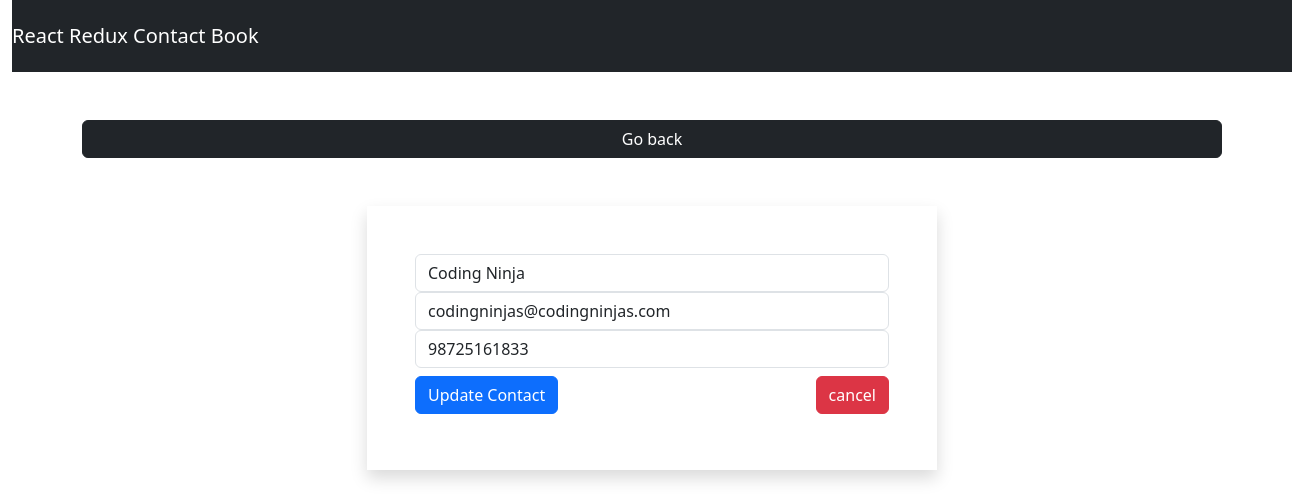
Test: Contact Book App › should edit an existing contact
Replace the text in the 1st field with placeholder "Name" with "Updated Ninja" at (652, 273), box [415,254,889,292]
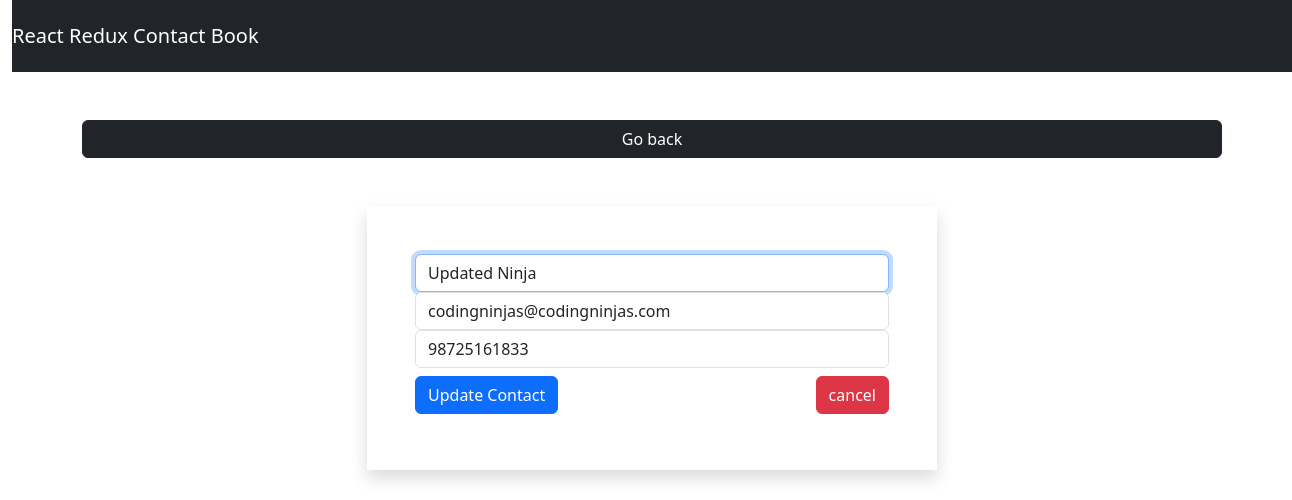
Replace the text in the 2nd field with placeholder "Email" with "updated@codingninjas.com" at (652, 311), box [415,292,889,330]
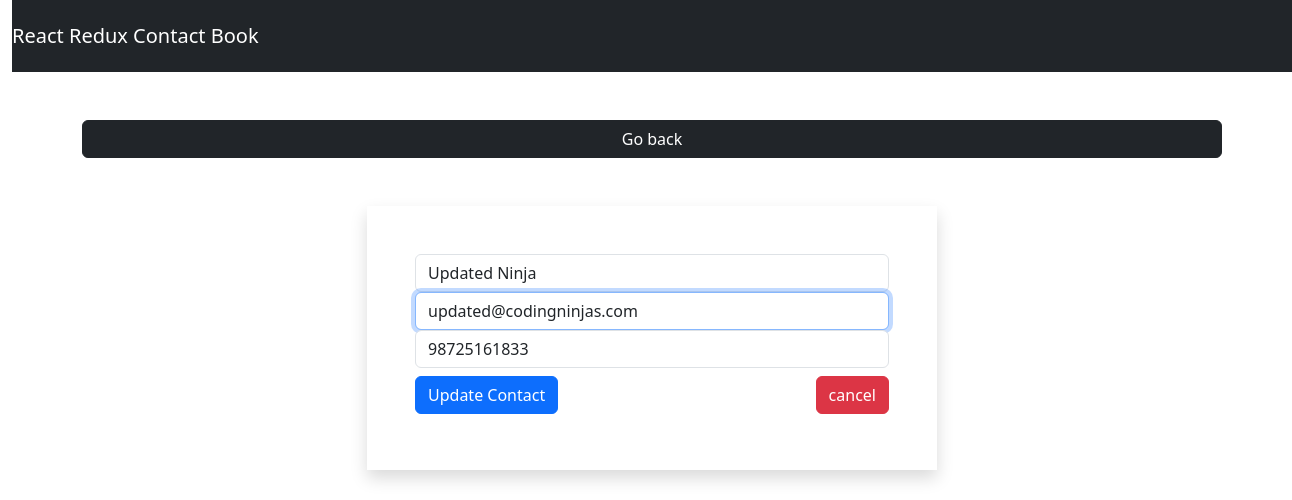
Replace the text in the 3rd field with placeholder "Phone" with "9876543210" at (652, 349), box [415,330,889,368]
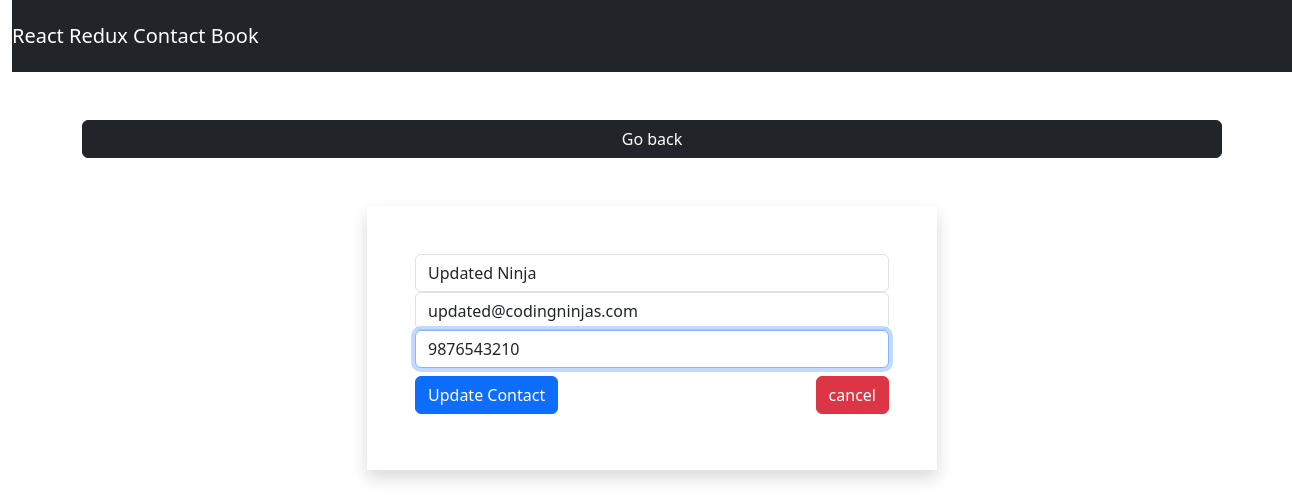
Click the button "Update Contact" at (487, 395), box [415,376,558,414]
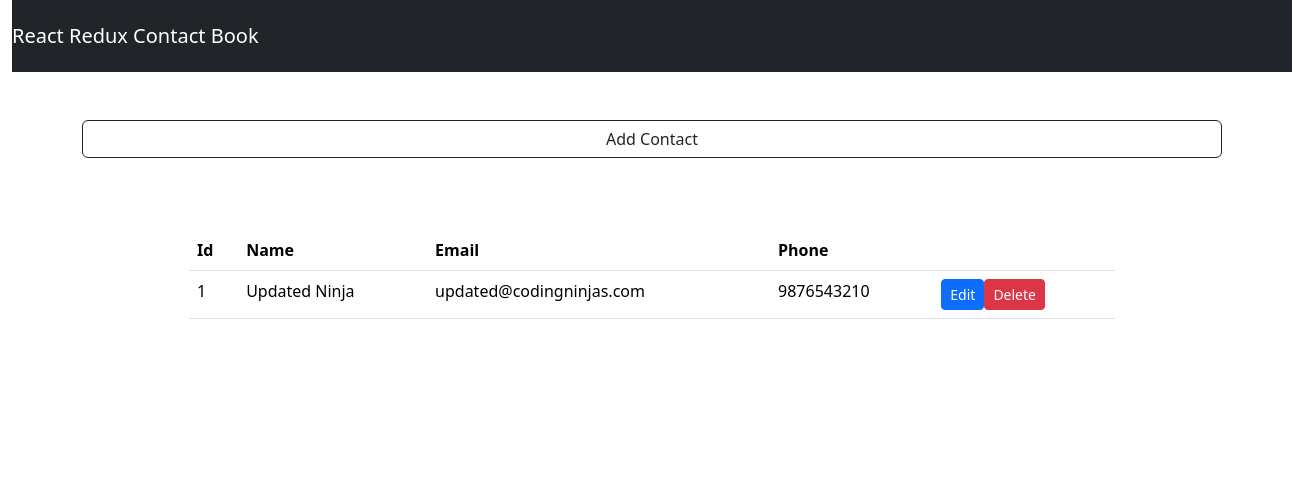
expect the text "Updated Ninja" is shown: met, box [238,270,427,318]
